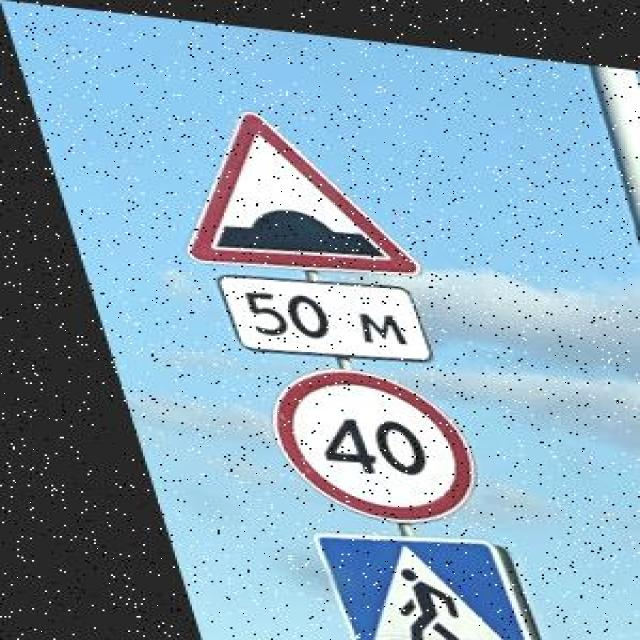speed limit 40: (271, 369, 478, 522)
